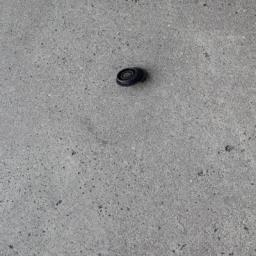FOD: (111, 59, 153, 93)
